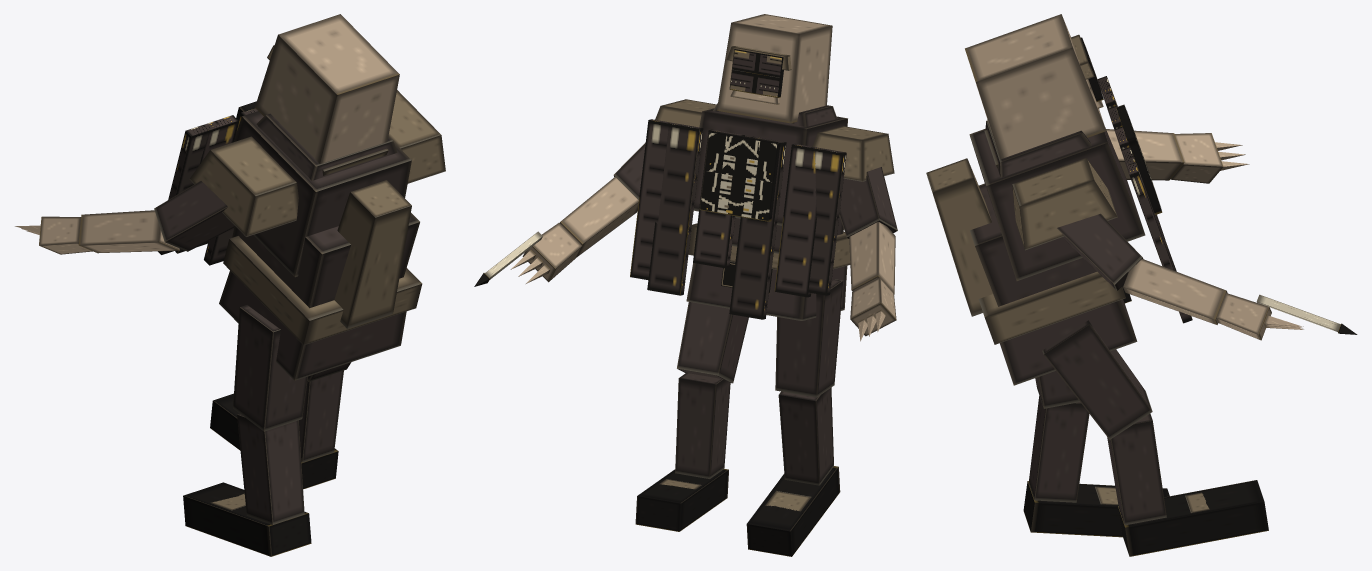
The model's file is scriptorax_death.obj.
3 views of the same model, side by side, from view 1: azimuth 30°, elevation 25°; view 2: azimuth 150°, elevation 25°; view 3: azimuth 270°, elevation 25° (orthographic). The views are drawn at different scales.
Parts seen in each view (by area): view 1: scriptorax_death; view 2: scriptorax_death; view 3: scriptorax_death.
Boxes of the visible parts, <box> form: scriptorax_death: <box>15,14,445,556</box>; scriptorax_death: <box>474,14,897,556</box>; scriptorax_death: <box>926,14,1357,556</box>.
Bounding box in the file's own units: 0.8036 × 1.04 × 0.7769.
1 material, 1 textured.
